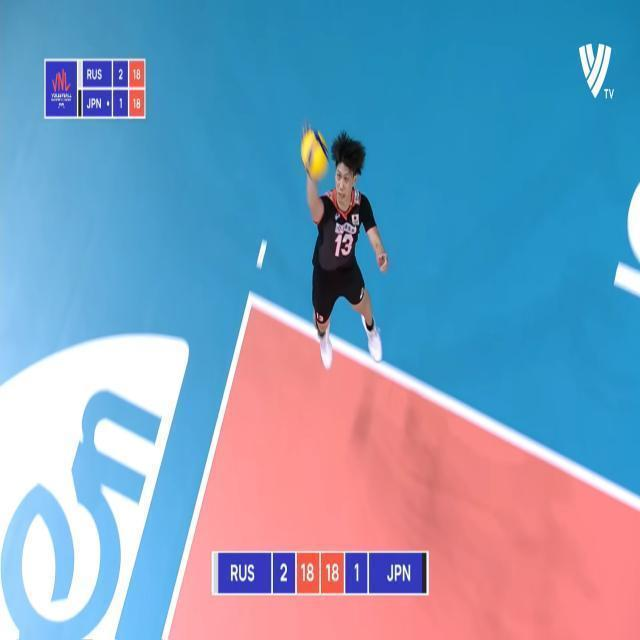volleyball: (300, 130, 330, 182)
